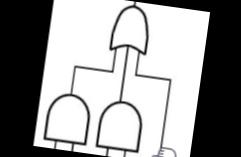and: (91, 95, 149, 157), (38, 87, 95, 149)
or: (103, 0, 158, 58)
